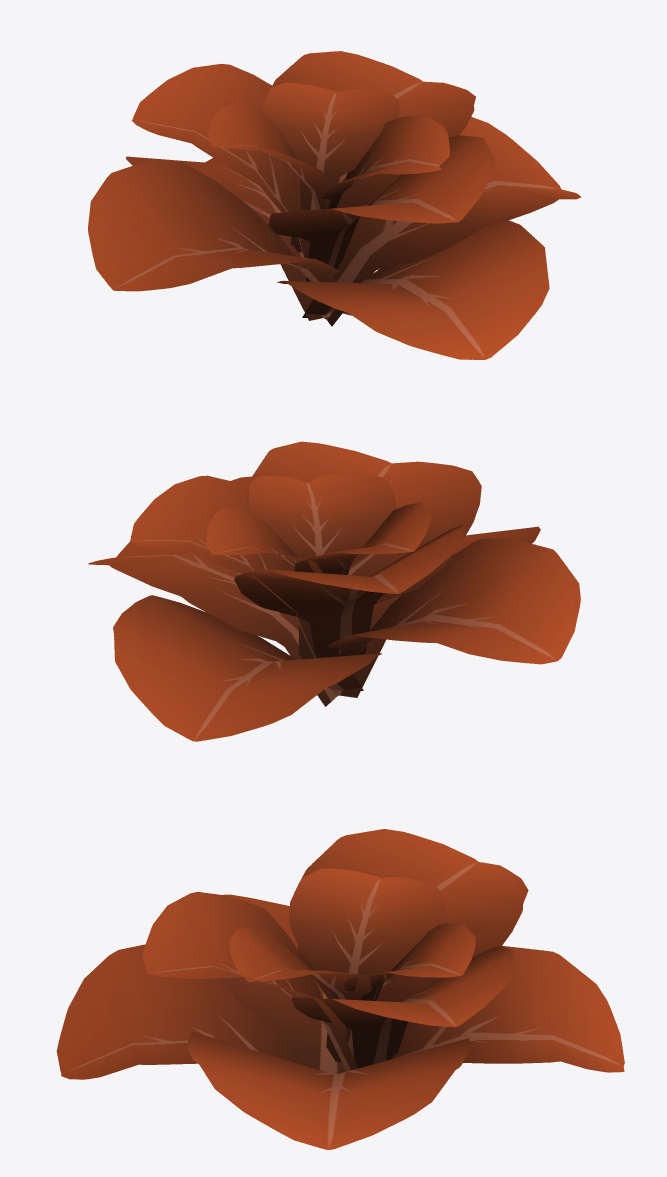
The model's file is Fern 1.FBX.
3 renders of one model, top to bottom at view 1: azimuth 30°, elevation 25°; view 2: azimuth 150°, elevation 25°; view 3: azimuth 270°, elevation 25°, orthographic. The views are drawn at different scales.
Visible parts, largest first — view 1: Plane002; view 2: Plane002; view 3: Plane002.
Boxes of the visible parts, <box> form: Plane002: <box>88,51,581,359</box>; Plane002: <box>88,441,580,741</box>; Plane002: <box>56,829,624,1149</box>.
Size of the model in its own units: 8.71 by 3.8 by 9.37.
Materials: 1 (1 with a texture image).
